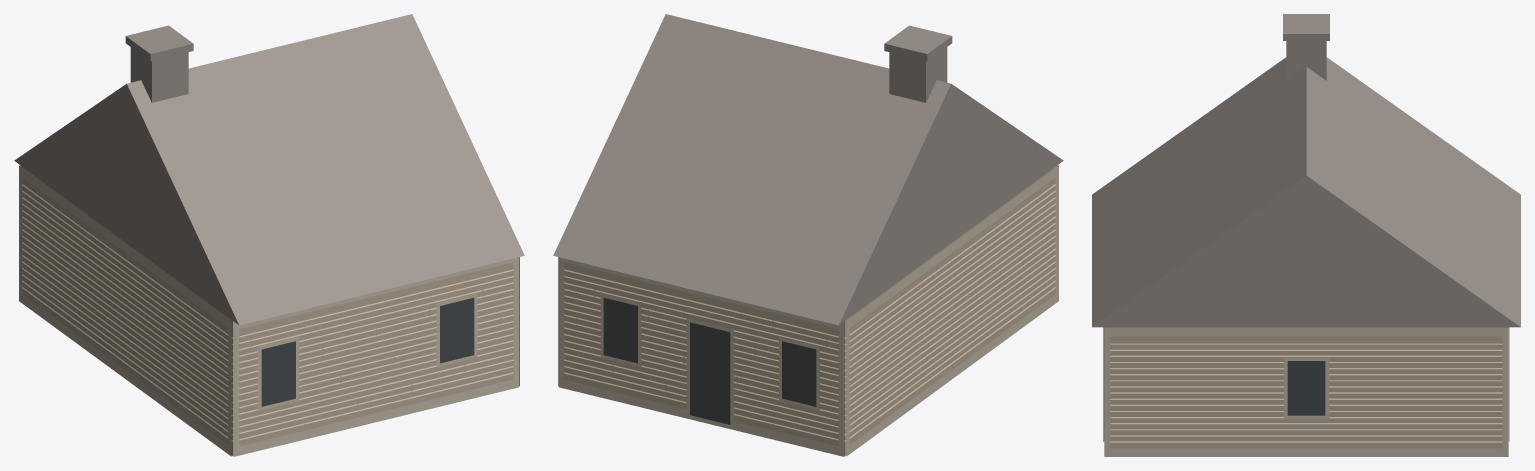
Rendered from recon_1835_blk_randolph_franklin_d4_03__inferred_1835.glb.
3 views of the same model, side by side, from view 1: azimuth 30°, elevation 25°; view 2: azimuth 150°, elevation 25°; view 3: azimuth 270°, elevation 25° (orthographic). The views are drawn at different scales.
Parts seen in each view (by area): view 1: recon_1835_blk_randolph_franklin_d4_03__inferred_1835; view 2: recon_1835_blk_randolph_franklin_d4_03__inferred_1835; view 3: recon_1835_blk_randolph_franklin_d4_03__inferred_1835.
Boxes of the visible parts, box(x1,y1,x2,y2) form: recon_1835_blk_randolph_franklin_d4_03__inferred_1835: box(14, 14, 524, 456); recon_1835_blk_randolph_franklin_d4_03__inferred_1835: box(553, 14, 1063, 456); recon_1835_blk_randolph_franklin_d4_03__inferred_1835: box(1092, 14, 1520, 456).
Size of the model in its own units: 6.59 by 7.2 by 8.89.
